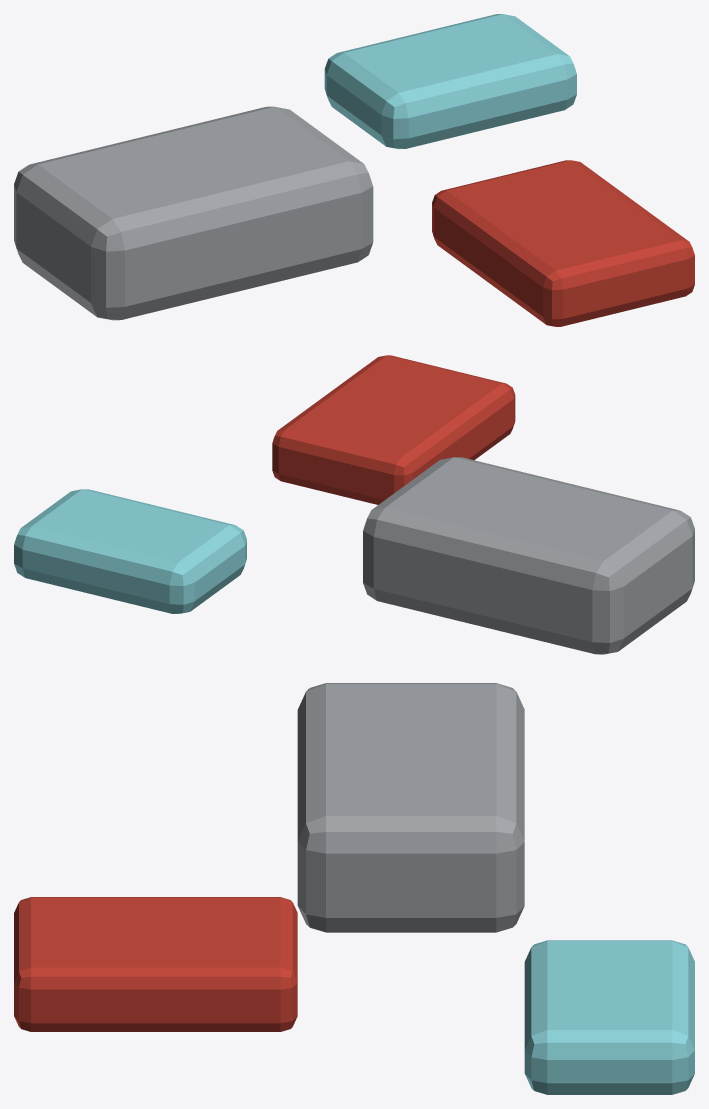
The model's file is debris_fragment.glb.
The picture shows the model from 3 angles, top to bottom: view 1: azimuth 30°, elevation 25°; view 2: azimuth 150°, elevation 25°; view 3: azimuth 270°, elevation 25°; orthographic projection. The views are drawn at different scales.
Visible parts, largest first — view 1: Debris_Piece_01, Debris_Piece_03, Debris_Piece_02; view 2: Debris_Piece_01, Debris_Piece_03, Debris_Piece_02; view 3: Debris_Piece_01, Debris_Piece_03, Debris_Piece_02.
Part boxes in pixels (left/top/right/bottom): Debris_Piece_01: left=14, top=106, right=373, bottom=320; Debris_Piece_03: left=432, top=160, right=694, bottom=326; Debris_Piece_02: left=324, top=14, right=576, bottom=148; Debris_Piece_01: left=363, top=457, right=694, bottom=654; Debris_Piece_03: left=272, top=355, right=515, bottom=504; Debris_Piece_02: left=14, top=489, right=246, bottom=613; Debris_Piece_01: left=297, top=683, right=524, bottom=932; Debris_Piece_03: left=14, top=897, right=297, bottom=1031; Debris_Piece_02: left=524, top=940, right=694, bottom=1094.
Bounding box in the file's own units: 0.27 × 0.045 × 0.24.
